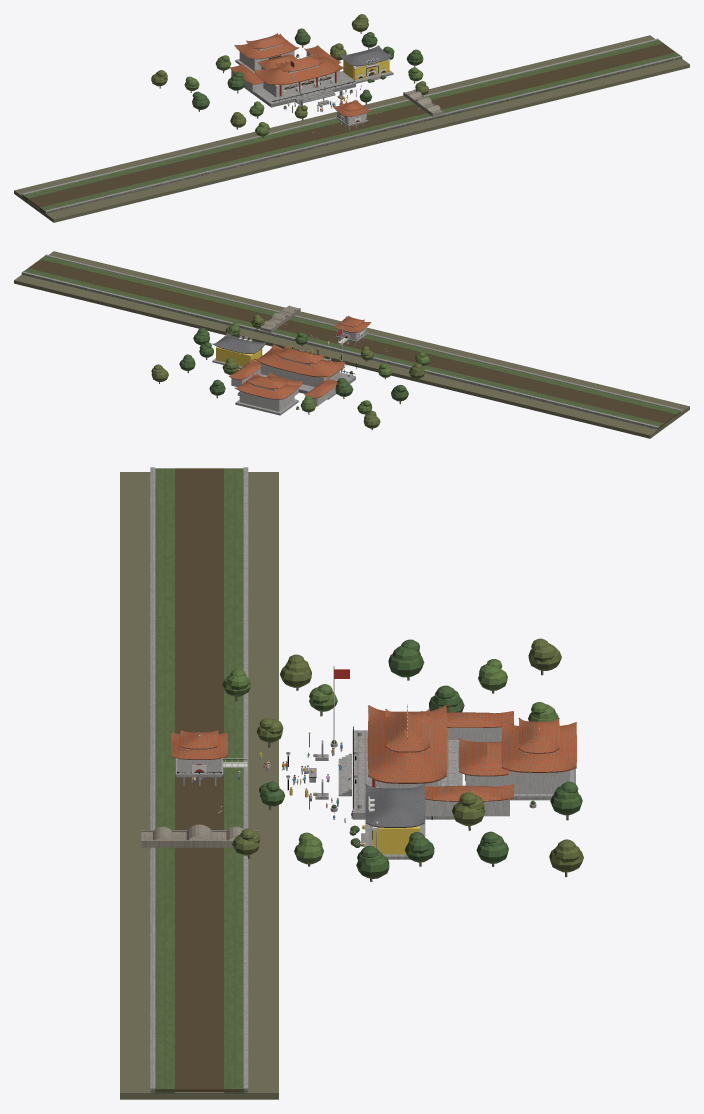
File: dong-xam-model.glb
3 views of the same model, one above another, from view 1: azimuth 30°, elevation 25°; view 2: azimuth 150°, elevation 25°; view 3: azimuth 270°, elevation 25° (orthographic). The views are drawn at different scales.
Parts seen in each view (by area): view 1: River_Bed, River_Water, Bank_Near, TT_Terrace, TT_Roof_1, Tree_BigW_Foliage_0, TT_BackWall, Tree_BigE_Foliage_0, Tree_NE_Foliage_0, TS_Roof, Bridge_Deck, TS_Body (+1 smaller); view 2: River_Bed, River_Water, Bank_Near, TT_Terrace, TT_Roof_1, TT_BackWall, Tree_BigW_Foliage_0, Tree_BigE_Foliage_0, Tree_NE_Foliage_0, TS_Roof, Bridge_Deck, TS_Body; view 3: River_Bed, River_Water, Bank_Near, TT_Roof_1, TT_Terrace, Tree_BigW_Foliage_0, Tree_BigE_Foliage_0, TT_BackWall, Tree_NE_Foliage_0, TS_Roof, Bridge_Deck, TS_Body.
Part boxes in pixels (<box>): River_Bed: <box>14,35,689,222</box>; River_Water: <box>22,43,682,212</box>; Bank_Near: <box>22,40,681,213</box>; TT_Terrace: <box>21,38,682,213</box>; TT_Roof_1: <box>229,33,371,116</box>; Tree_BigW_Foliage_0: <box>192,28,423,109</box>; TT_BackWall: <box>231,44,366,124</box>; Tree_BigE_Foliage_0: <box>151,14,428,127</box>; Tree_NE_Foliage_0: <box>184,55,423,136</box>; TS_Roof: <box>300,45,393,105</box>; Bridge_Deck: <box>403,89,443,116</box>; TS_Body: <box>343,60,389,80</box>; River_Bed: <box>14,251,689,438</box>; River_Water: <box>22,259,676,428</box>; Bank_Near: <box>22,256,680,429</box>; TT_Terrace: <box>21,254,682,429</box>; TT_Roof_1: <box>229,316,371,399</box>; TT_BackWall: <box>231,327,366,411</box>; Tree_BigW_Foliage_0: <box>179,328,408,401</box>; Tree_BigE_Foliage_0: <box>151,314,424,428</box>; Tree_NE_Foliage_0: <box>225,322,429,414</box>; TS_Roof: <box>212,333,342,354</box>; Bridge_Deck: <box>260,305,300,332</box>; TS_Body: <box>216,347,262,366</box>; River_Bed: <box>120,472,278,1099</box>; River_Water: <box>151,468,247,1091</box>; Bank_Near: <box>150,468,248,1093</box>; TT_Roof_1: <box>171,705,576,801</box>; TT_Terrace: <box>150,467,575,1093</box>; Tree_BigW_Foliage_0: <box>259,639,582,878</box>; Tree_BigE_Foliage_0: <box>232,638,583,872</box>; TT_BackWall: <box>177,727,569,816</box>; Tree_NE_Foliage_0: <box>222,659,558,864</box>; TS_Roof: <box>286,752,425,827</box>; Bridge_Deck: <box>141,824,257,848</box>; TS_Body: <box>372,825,419,854</box>.
Size of the model in its own units: 240 by 17.95 by 75.83.
49 materials, 9 textured.
